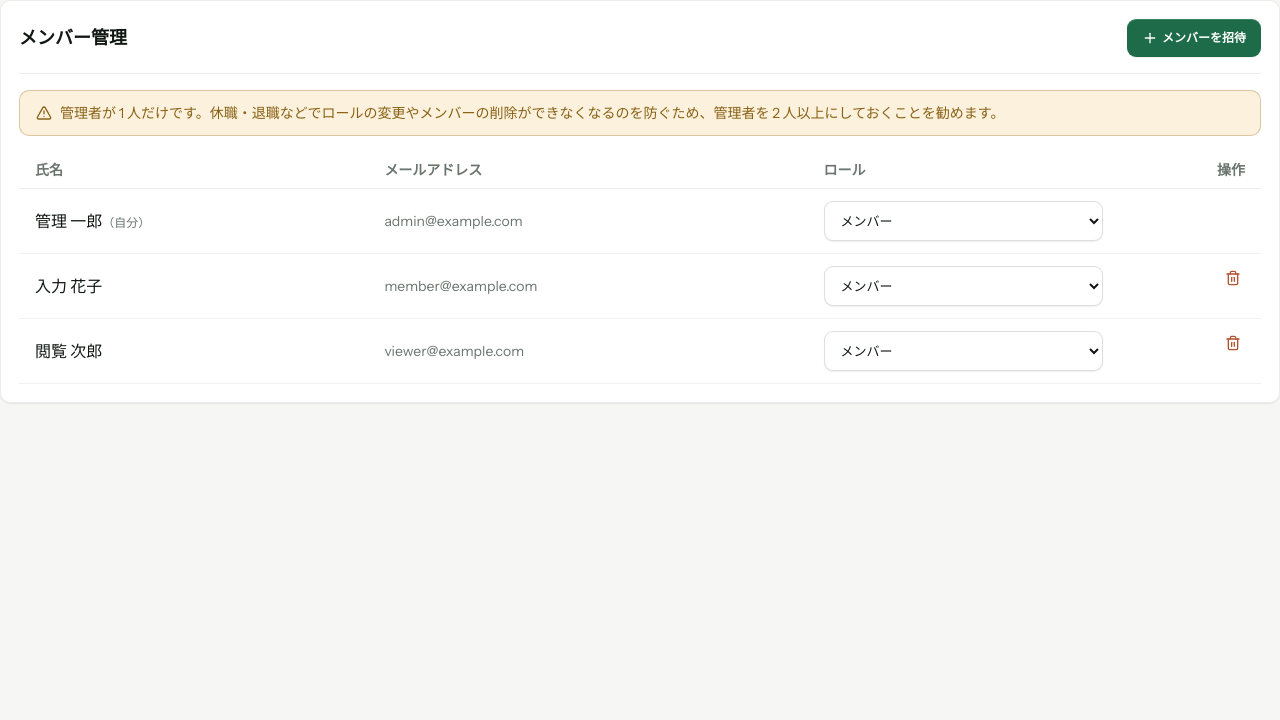
Test: MemberList のロール › 管理者が 0 人になる下書きは保存させない
Select "メンバー" in the dropdown named "管理 一郎 のロール". click: point(963, 221)
box: x1=824 y1=201 x2=1102 y2=241
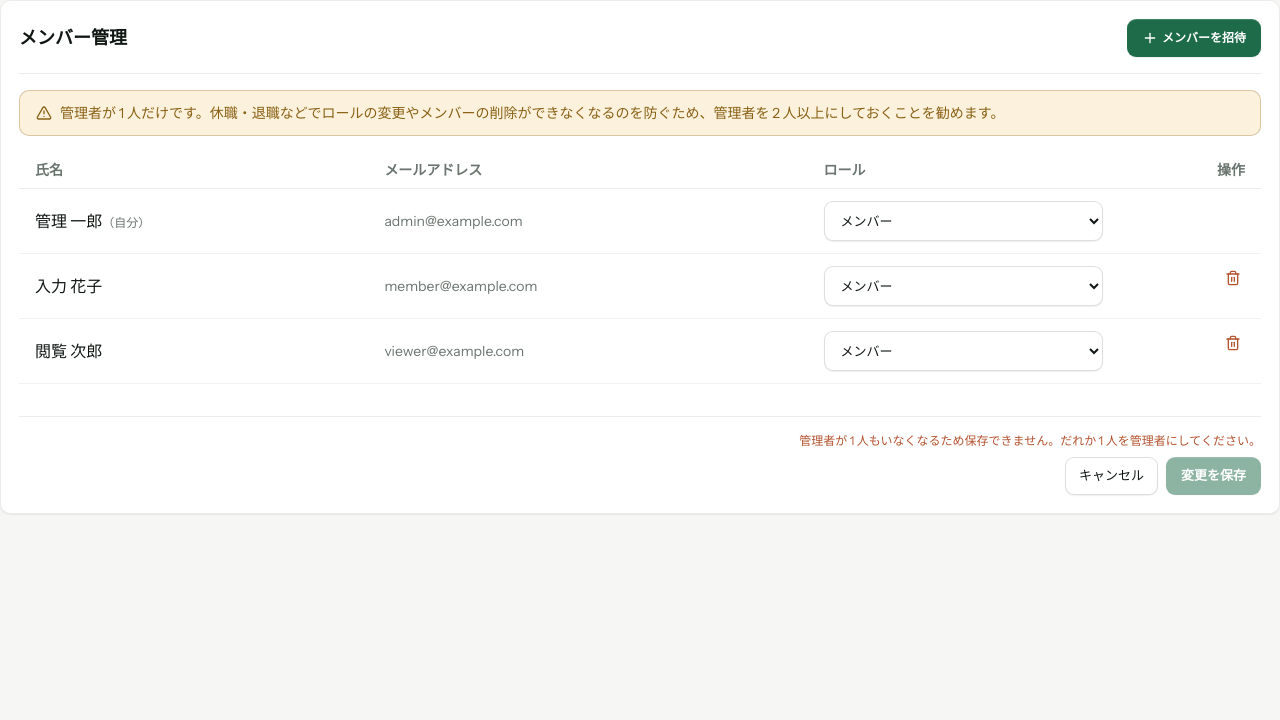
Check: the text "管理者が 1 人もいなくなるため保存できません" is shown, box x1=799 y1=433 x2=1261 y2=448
Check: the button "変更を保存" is disabled, box x1=1166 y1=457 x2=1261 y2=495
